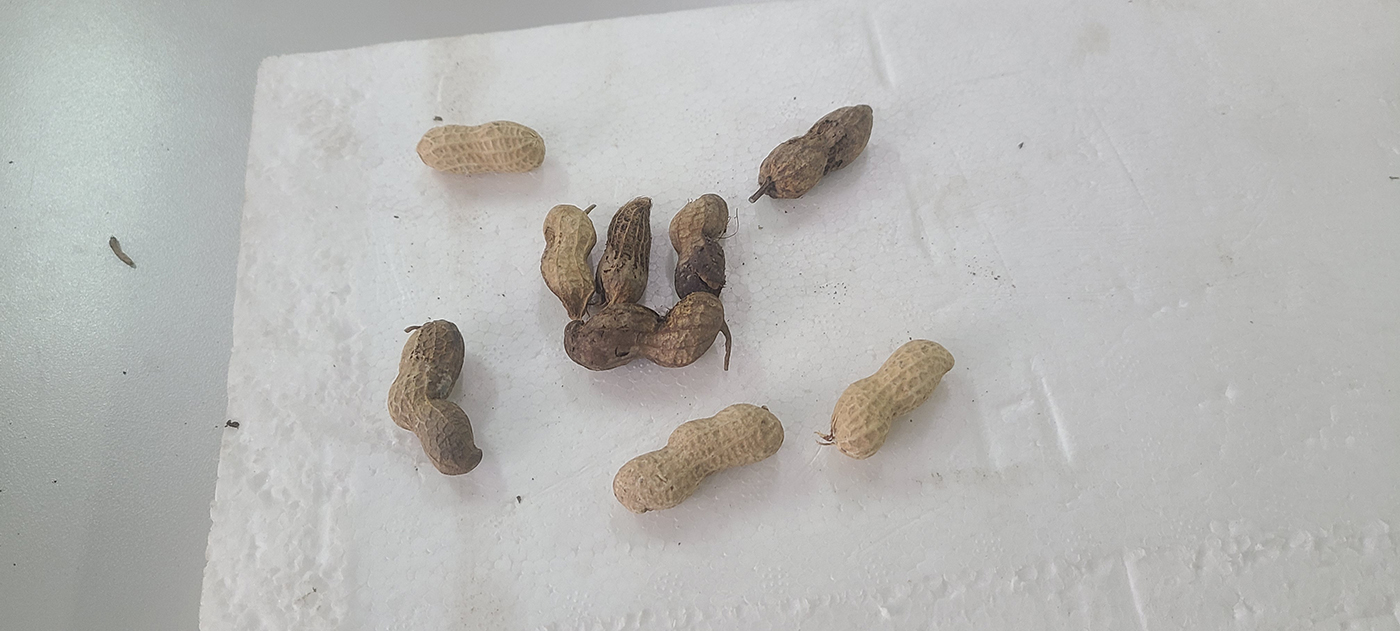h: (612, 403, 783, 512), (828, 338, 955, 459), (417, 119, 546, 176)
l: (387, 319, 484, 475), (563, 292, 726, 371), (757, 103, 874, 199), (667, 193, 729, 299), (542, 204, 597, 320), (598, 197, 652, 305)
